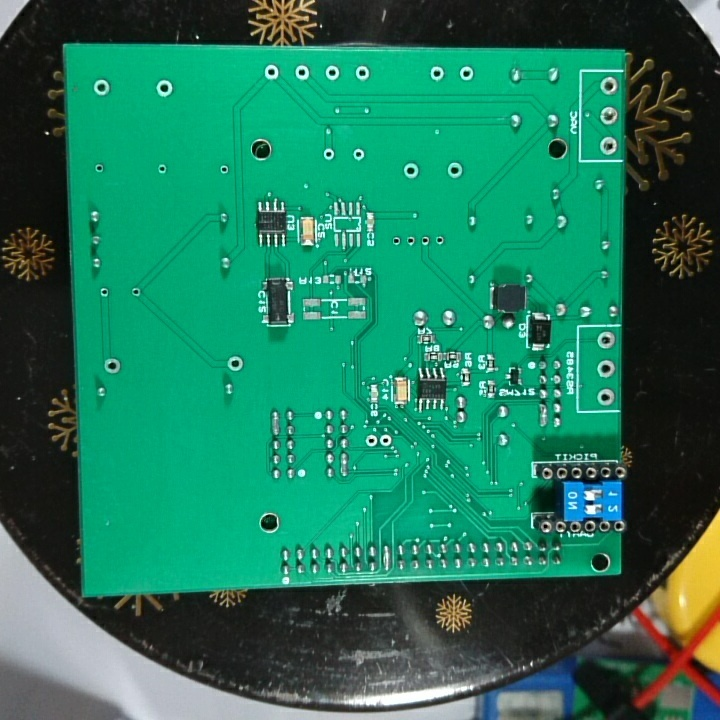F: (597, 103, 619, 128), (444, 160, 467, 183), (596, 135, 620, 157), (595, 329, 617, 352), (323, 62, 344, 86), (261, 60, 281, 85), (154, 75, 174, 100), (225, 353, 247, 375), (102, 354, 124, 376), (598, 74, 619, 97), (90, 78, 113, 98), (353, 62, 372, 86), (596, 358, 616, 380), (596, 386, 616, 408), (456, 63, 476, 85), (293, 63, 312, 85), (401, 160, 420, 181), (428, 63, 445, 82), (350, 146, 367, 165), (377, 431, 393, 450), (320, 145, 336, 163), (403, 234, 418, 252), (364, 432, 379, 450), (433, 232, 447, 250), (418, 233, 432, 251), (217, 163, 233, 177), (127, 285, 143, 299), (90, 162, 107, 175), (156, 161, 169, 177), (390, 233, 402, 249), (98, 286, 111, 300)
P: (537, 400, 550, 432), (267, 408, 281, 435), (337, 451, 350, 479), (381, 542, 393, 572)
